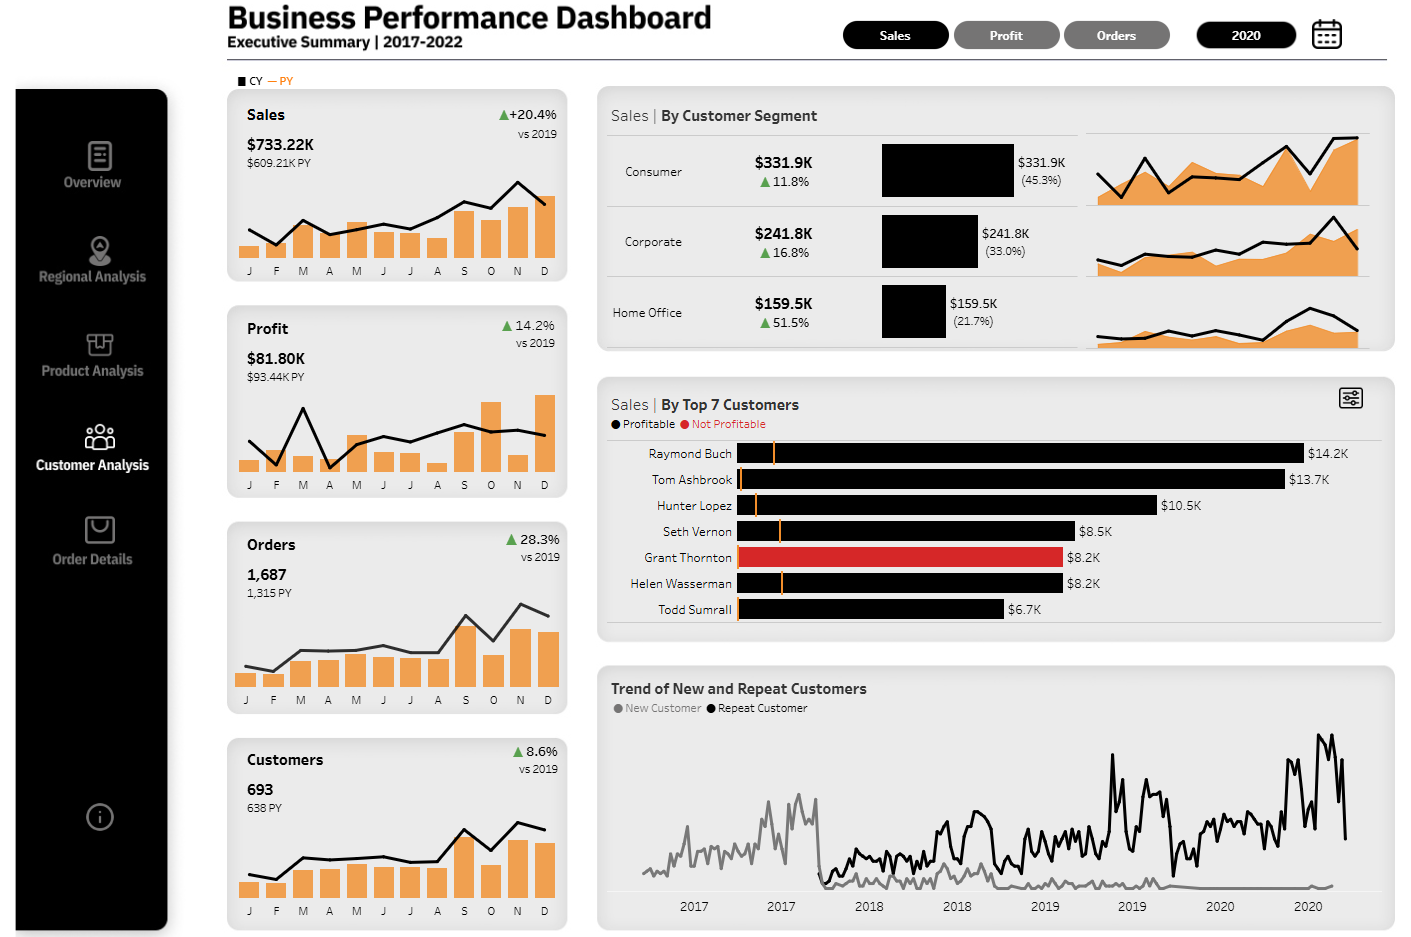

What the dashboard file says about the page in this screenshot:
{"tool":"tableau","page":{"name":"Customer Analysis","canvas":[1440,1024],"ordinal":0},"visuals":[{"type":"image","param":"Image/Dashboard BG-3.png","box":[0,0,1440,1024]},{"type":"worksheet","title":"Metric Button","mark":"Shape","cols":["Calculation_340584768144658440","Calculation_340584768144658440","Calculation_340584768144658440"],"box":[827,44,340,62]},{"type":"worksheet","title":"Year Button","mark":"Shape","cols":["Calculation_340584768144658440"],"box":[1167,44,140,62]},{"type":"dashboard-object","box":[1302,59,30,30]},{"type":"parameter","param":"[Parameters].[Parameter 1]","box":[1304,88,118,54]},{"type":"text","box":[226,107,100,26]},{"type":"worksheet","title":"Customer Segment","mark":"Automatic","rows":["Segment"],"cols":["Calculation_665125414463606798","Calculation_1896859912208703498"],"box":[593,134,480,258]},{"type":"worksheet","title":"Sales Card","mark":"Automatic","box":[233,137,155,75]},{"type":"worksheet","title":"YoY Sales % ","mark":"Automatic","box":[442,144,116,57]},{"type":"worksheet","title":"Customer Segment Trend","mark":"Automatic","rows":["Segment","CY Metric Swap  (copy)_1896859912209924107","Calculation_1896859912208703498"],"cols":["Order Date"],"box":[1072,169,292,224]},{"type":"dashboard-object","box":[75,183,30,30]},{"type":"worksheet","title":"Sales Chart","mark":"Automatic","rows":["CY Sales (copy)_1896859912200220675","Calculation_1896859912199979010"],"cols":["Order Date"],"box":[222,213,330,110]},{"type":"dashboard-object","box":[75,276,30,30]},{"type":"worksheet","title":"Profit Card","mark":"Automatic","box":[233,350,155,75]},{"type":"worksheet","title":"YoY Profit %","mark":"Automatic","box":[442,355,116,57]},{"type":"dashboard-object","box":[75,369,30,30]},{"type":"parameter","param":"[Parameters].[Top Products (copy)_1593992837427298316]","box":[1042,419,265,41]},{"type":"worksheet","title":"Top X Customers","mark":"Automatic","rows":["Customer Name"],"cols":["Calculation_1896859912208703498","CY Metric Swap  (copy)_1896859912209924107"],"box":[593,422,783,257]},{"type":"dashboard-object","box":[1329,426,24,24]},{"type":"worksheet","title":"Profit Chart","mark":"Bar","rows":["PY Sales  (copy)_1896859912201674757","CY Sales (copy)_1896859912201572356"],"cols":["Order Date"],"box":[222,427,330,110]},{"type":"image","param":"Image/customer (1).png","box":[75,462,30,30]},{"type":"dashboard-object","box":[75,555,30,30]},{"type":"worksheet","title":"Orders Card","mark":"Automatic","box":[233,563,155,75]},{"type":"worksheet","title":"YoY Orders %","mark":"Automatic","box":[442,568,116,57]},{"type":"worksheet","title":"Orders Chart","mark":"Bar","rows":["CY Orders (copy)_1896859912203137031","CY Profit (copy)_1896859912202817542"],"cols":["Order Date"],"box":[222,638,330,110]},{"type":"worksheet","title":"Monthly wise New vs Existing Customer Count","mark":"Automatic","rows":["Customer ID"],"cols":["Order Date"],"box":[593,708,783,257]},{"type":"text","box":[111,768,402,134]},{"type":"worksheet","title":"Customers Card","mark":"Automatic","box":[233,775,155,75]},{"type":"worksheet","title":"YoY Customers %","mark":"Automatic","box":[442,781,116,57]},{"type":"dashboard-object","box":[75,842,30,30]},{"type":"worksheet","title":"Customers Chart","mark":"Bar","rows":["CY Customers (copy)_1896859912206483465","CY Profit (copy)_1896859912206348296"],"cols":["Order Date"],"box":[222,853,330,110]}]}

Visuals, with their boxes on the page's 1440x1024 design canvas (x1, y1, x2, y2). These are canvas units, not pixel positions in the 1411x937 screenshot, which may show the page scaled, cropped or inside an application window:
image: Rect(0, 0, 1440, 1024)
"Metric Button" worksheet (Shape marks): Rect(827, 44, 1167, 106)
"Year Button" worksheet (Shape marks): Rect(1167, 44, 1307, 106)
dashboard-object: Rect(1302, 59, 1332, 89)
parameter: Rect(1304, 88, 1422, 142)
text: Rect(226, 107, 326, 133)
"Customer Segment" worksheet: Rect(593, 134, 1073, 392)
"Sales Card" worksheet: Rect(233, 137, 388, 212)
"YoY Sales % " worksheet: Rect(442, 144, 558, 201)
"Customer Segment Trend" worksheet: Rect(1072, 169, 1364, 393)
dashboard-object: Rect(75, 183, 105, 213)
"Sales Chart" worksheet: Rect(222, 213, 552, 323)
dashboard-object: Rect(75, 276, 105, 306)
"Profit Card" worksheet: Rect(233, 350, 388, 425)
"YoY Profit %" worksheet: Rect(442, 355, 558, 412)
dashboard-object: Rect(75, 369, 105, 399)
parameter: Rect(1042, 419, 1307, 460)
"Top X Customers" worksheet: Rect(593, 422, 1376, 679)
dashboard-object: Rect(1329, 426, 1353, 450)
"Profit Chart" worksheet (Bar marks): Rect(222, 427, 552, 537)
image: Rect(75, 462, 105, 492)
dashboard-object: Rect(75, 555, 105, 585)
"Orders Card" worksheet: Rect(233, 563, 388, 638)
"YoY Orders %" worksheet: Rect(442, 568, 558, 625)
"Orders Chart" worksheet (Bar marks): Rect(222, 638, 552, 748)
"Monthly wise New vs Existing Customer Count" worksheet: Rect(593, 708, 1376, 965)
text: Rect(111, 768, 513, 902)
"Customers Card" worksheet: Rect(233, 775, 388, 850)
"YoY Customers %" worksheet: Rect(442, 781, 558, 838)
dashboard-object: Rect(75, 842, 105, 872)
"Customers Chart" worksheet (Bar marks): Rect(222, 853, 552, 963)
